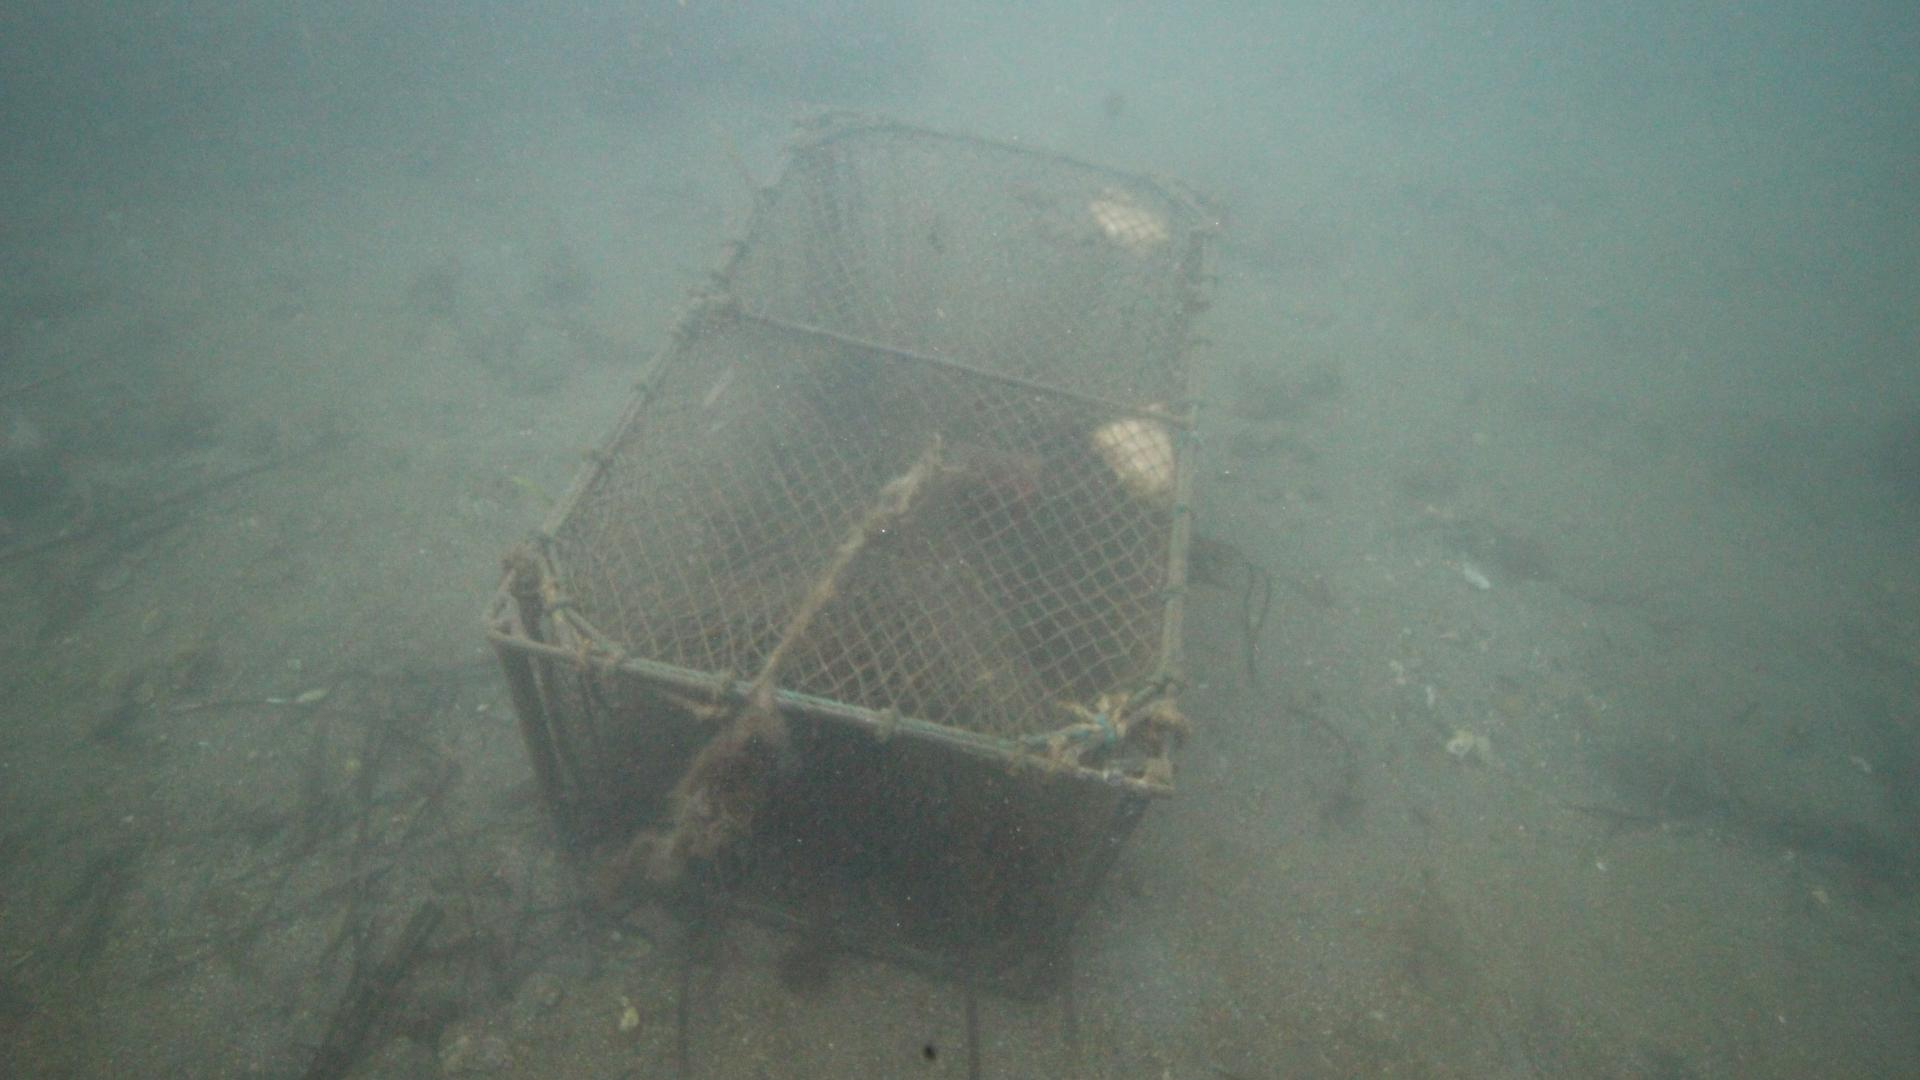rectangular fish trap: (476, 103, 1236, 1002)
